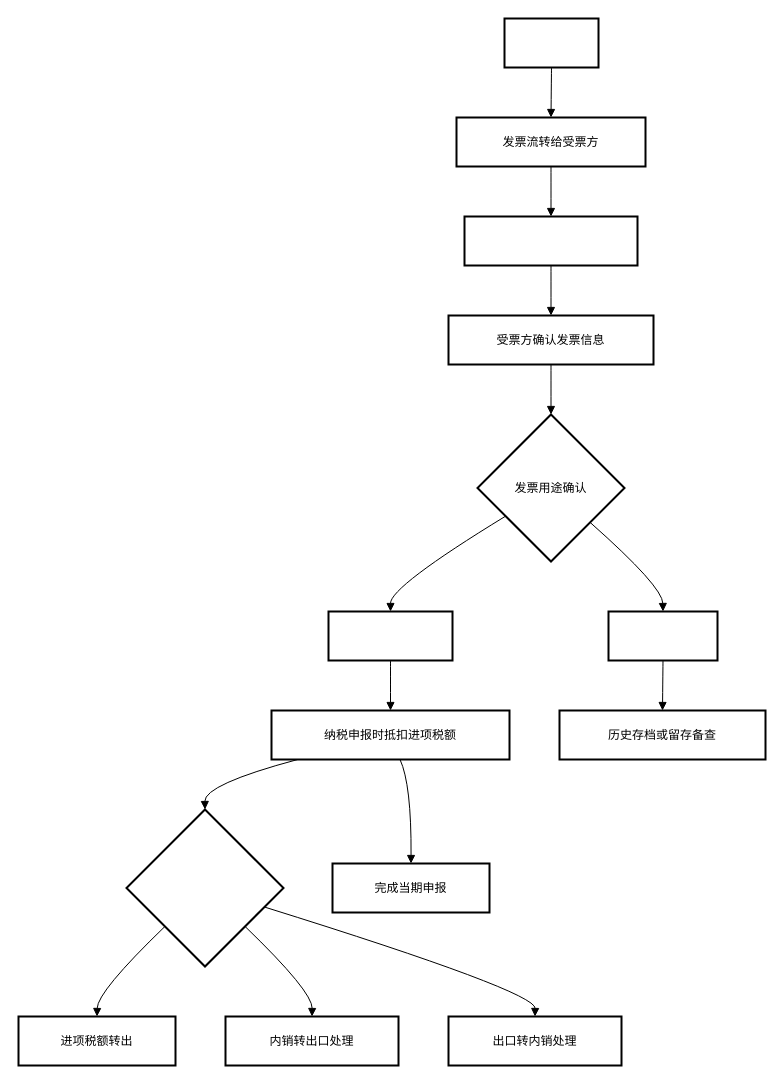
The diagram is 783 pixels wide and 1083 high, and some of its shapes have lost their labels. Here are the shapes that lost their labels. From the top down, the centre of each, then its label:
At (x=551, y=42): "开票".
At (x=550, y=240): "受票方查验发票".
At (x=390, y=635): "勾选抵扣".
At (x=662, y=635): "不抵扣".
At (x=204, y=887): "特殊情况: 转出".
